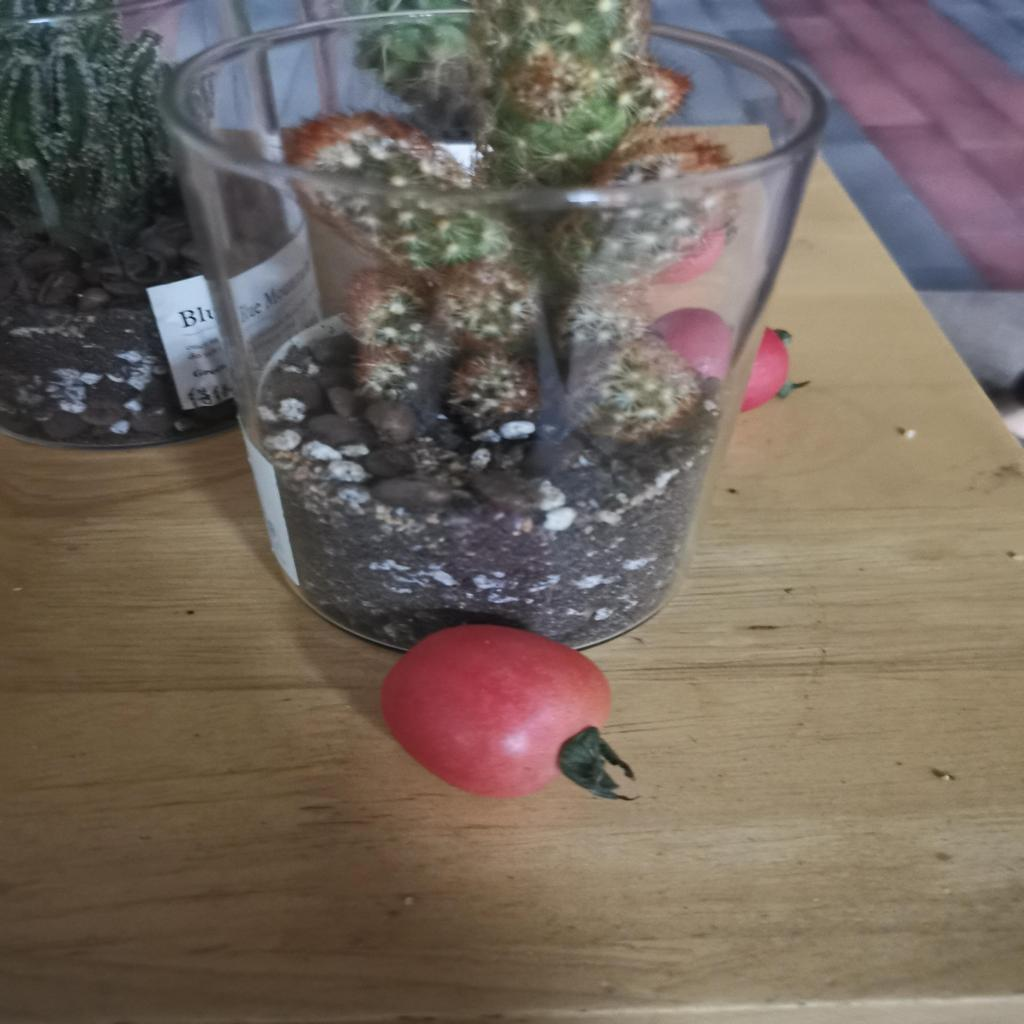tomato: (360, 620, 633, 812)
